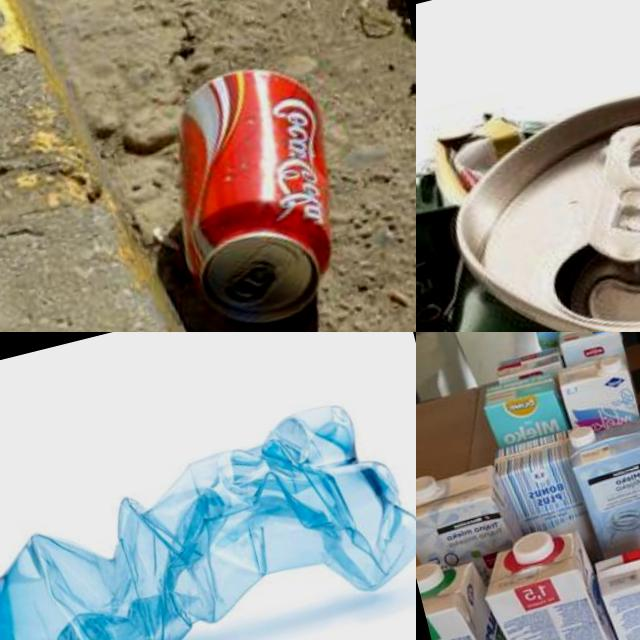aba de lata: (563, 105, 640, 271), (220, 256, 283, 306)
caixinha: (471, 525, 638, 640), (488, 432, 596, 572), (416, 461, 526, 572), (416, 550, 548, 640), (562, 408, 640, 555), (479, 367, 571, 448), (554, 349, 640, 435), (590, 534, 640, 640), (489, 345, 564, 384), (554, 332, 626, 367), (533, 332, 596, 348)
garrafa plástica: (0, 384, 416, 640)
lata: (416, 28, 640, 332), (141, 53, 368, 332)
tampa plástica: (510, 528, 558, 566), (416, 559, 448, 593), (416, 472, 441, 503), (568, 423, 596, 447), (596, 354, 624, 376)
